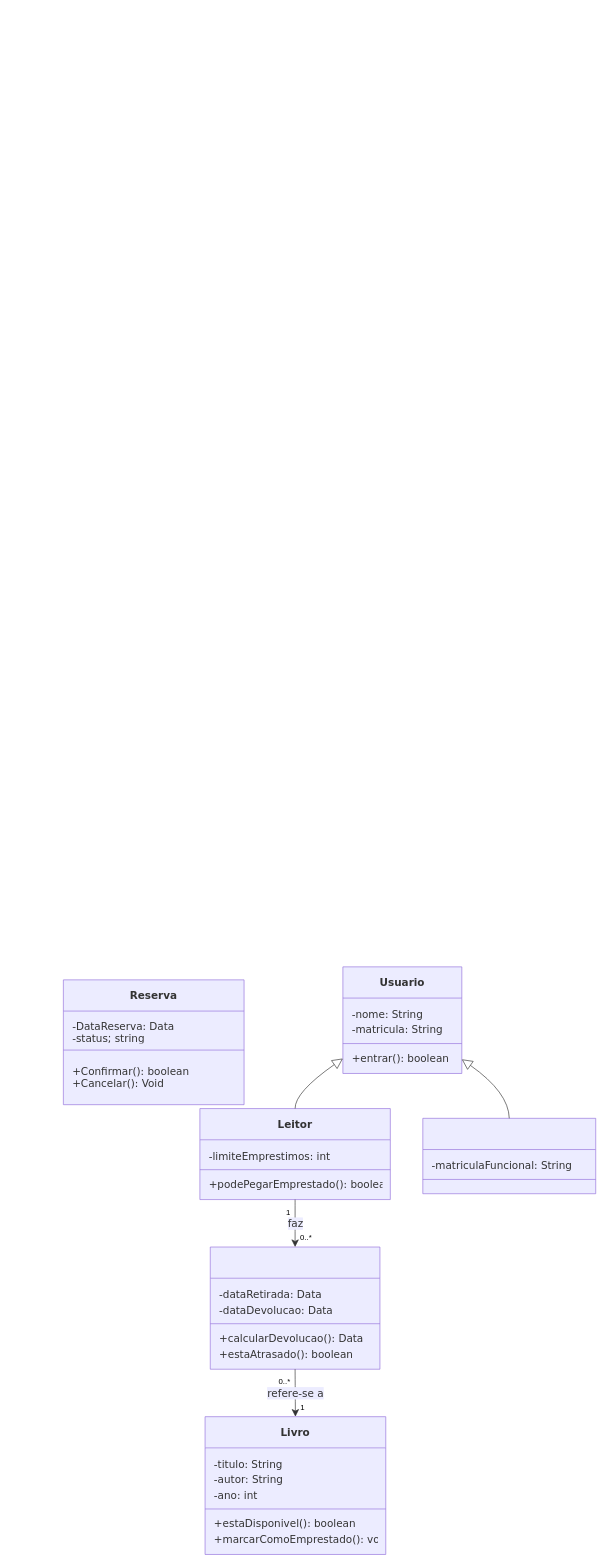
Image size: 607x1566. Some labels were removed from this diagram. The shapes that lost their labels are listed below. From the top down, each one's box as (x1, y1, x2, y2) in pixels, then its label:
(422, 1118, 596, 1194): Bibliotecario
(210, 1246, 380, 1369): Emprestimo
